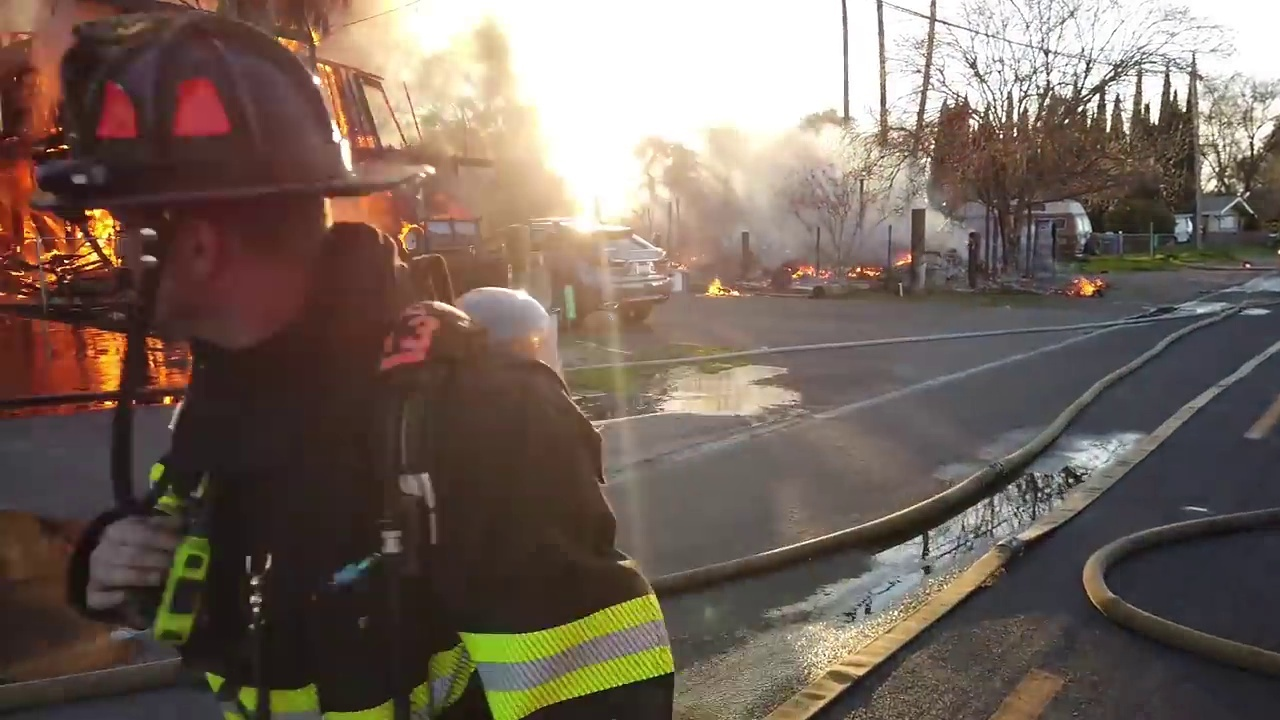fire: (5, 216, 113, 285), (394, 207, 428, 259), (792, 261, 880, 275), (1065, 275, 1106, 295), (699, 277, 743, 293), (1241, 255, 1257, 272), (896, 253, 912, 263)
smoke: (406, 1, 856, 263)
